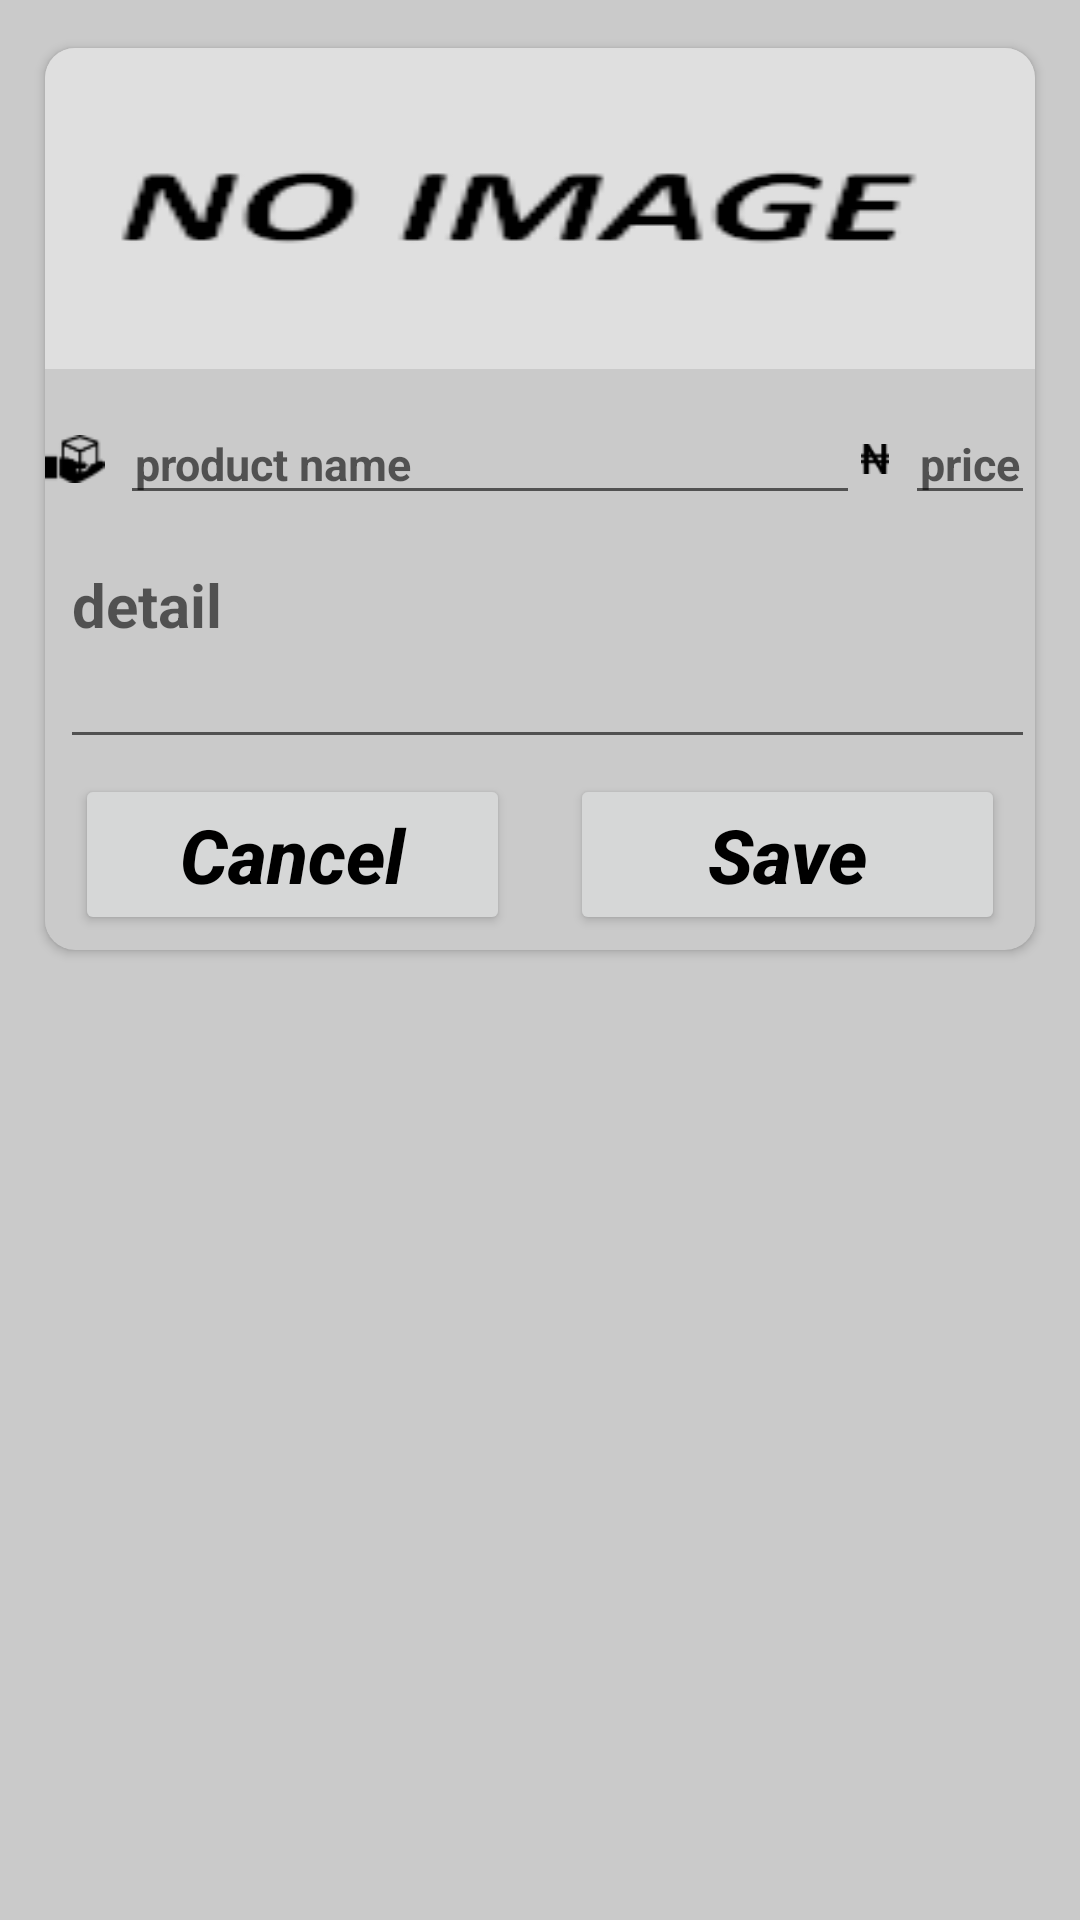

Screen size 1080px×1920px. Icon name, then its box in pixels as (x1, y1, x2, y2):
nairaicon: (861, 444, 889, 474)
producticon: (45, 435, 105, 483)
